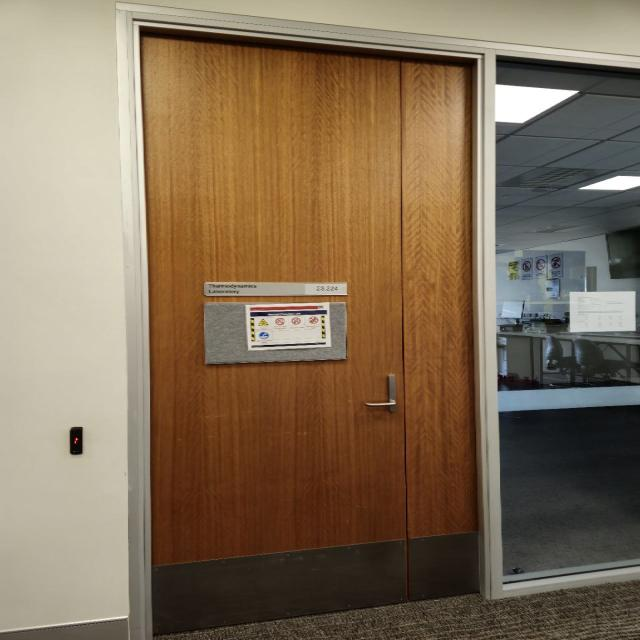doorhandle: (141, 25, 413, 634), (357, 394, 405, 422)
